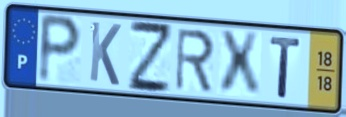K: (87, 19, 123, 89)
P: (36, 11, 85, 87)
R: (173, 27, 217, 94)
T: (268, 34, 303, 101)
X: (217, 29, 263, 99)
Z: (127, 17, 173, 96)
